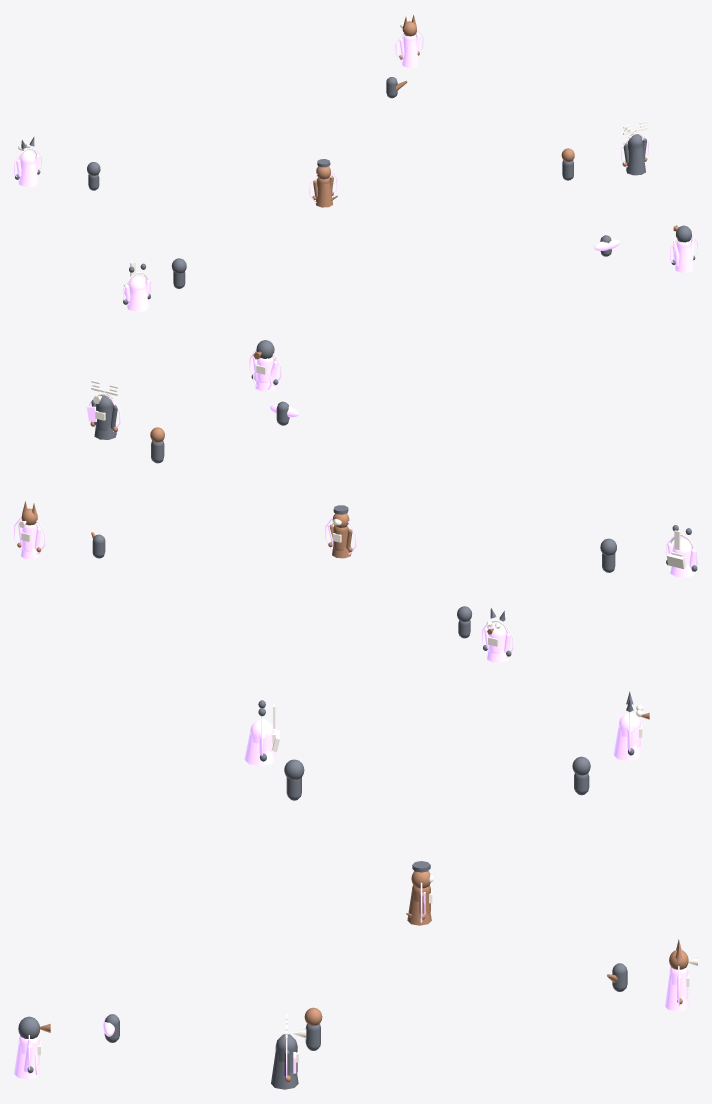
File: leaders.glb
3 renders of one model, top to bottom at view 1: azimuth 30°, elevation 25°; view 2: azimuth 150°, elevation 25°; view 3: azimuth 270°, elevation 25°, orthographic. The views are drawn at different scales.
Parts seen in each view (by area): view 1: leaders:near:surface:0, leaders:near:surface:1, leaders:near:surface:3, leaders:mid:surface:0, leaders:near:surface:2; view 2: leaders:near:surface:0, leaders:near:surface:1, leaders:near:surface:2, leaders:mid:surface:0, leaders:near:surface:3; view 3: leaders:near:surface:0, leaders:near:surface:1, leaders:mid:surface:0, leaders:near:surface:3, leaders:near:surface:2.
Part boxes in pixels (bbox=[...]): leaders:near:surface:0: bbox=[14, 29, 697, 311]; leaders:near:surface:1: bbox=[15, 133, 695, 304]; leaders:near:surface:3: bbox=[21, 15, 678, 231]; leaders:mid:surface:0: bbox=[88, 77, 611, 288]; leaders:near:surface:2: bbox=[18, 22, 692, 294]; leaders:near:surface:0: bbox=[14, 350, 697, 662]; leaders:near:surface:1: bbox=[91, 340, 697, 656]; leaders:near:surface:2: bbox=[19, 355, 693, 646]; leaders:mid:surface:0: bbox=[92, 401, 615, 638]; leaders:near:surface:3: bbox=[17, 351, 493, 634]; leaders:near:surface:0: bbox=[14, 706, 688, 1079]; leaders:near:surface:1: bbox=[18, 691, 634, 1089]; leaders:mid:surface:0: bbox=[104, 773, 627, 1050]; leaders:near:surface:3: bbox=[40, 713, 688, 1082]; leaders:near:surface:2: bbox=[37, 703, 697, 1062].
Bounding box in the file's own units: 86.44 × 13.09 × 71.43.
